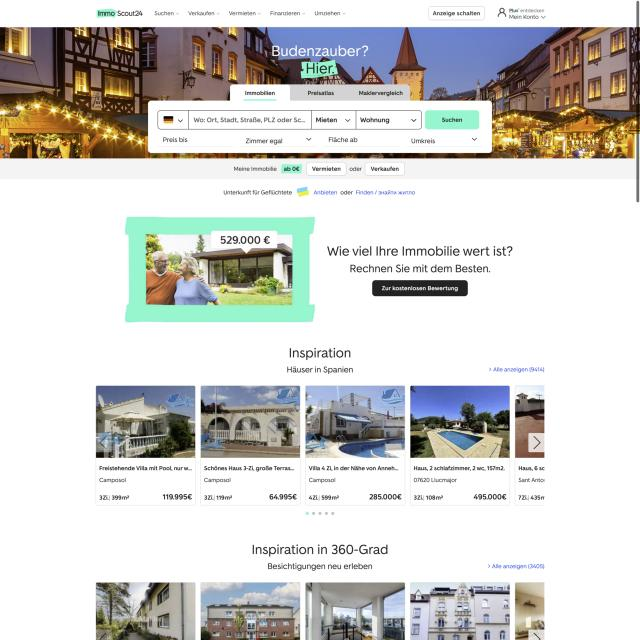input: (189, 110, 311, 129)
logo: (93, 5, 147, 21)
